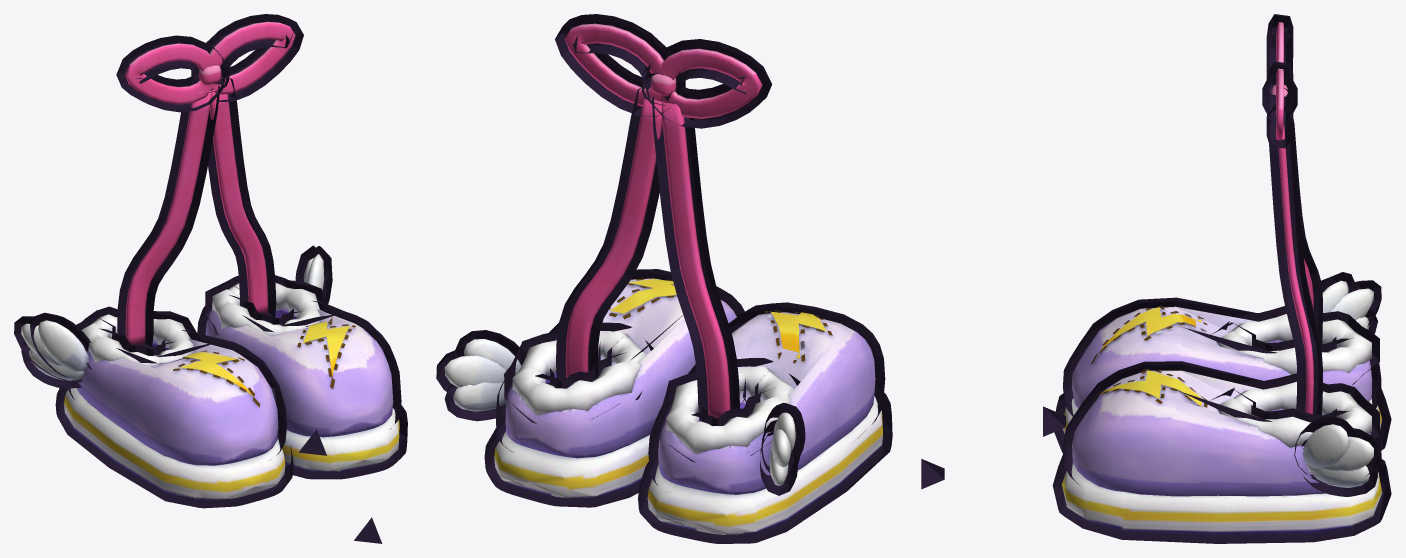
The model's file is DashSlippers.glb.
The picture shows the model from 3 angles, left to right: view 1: azimuth 30°, elevation 25°; view 2: azimuth 150°, elevation 25°; view 3: azimuth 270°, elevation 25°; orthographic projection. The views are drawn at different scales.
Parts seen in each view (by area): view 1: DashSlippers, DashSlippers_Outline; view 2: DashSlippers, DashSlippers_Outline; view 3: DashSlippers, DashSlippers_Outline.
Part boxes in pixels (<box>): DashSlippers: <box>21,21,399,499</box>; DashSlippers_Outline: <box>14,14,407,508</box>; DashSlippers: <box>444,23,882,534</box>; DashSlippers_Outline: <box>436,14,892,543</box>; DashSlippers: <box>1062,22,1382,534</box>; DashSlippers_Outline: <box>1052,14,1391,543</box>.
Size of the model in its own units: 1.35 by 1.67 by 1.63.
Materials: 2 (2 with a texture image).
